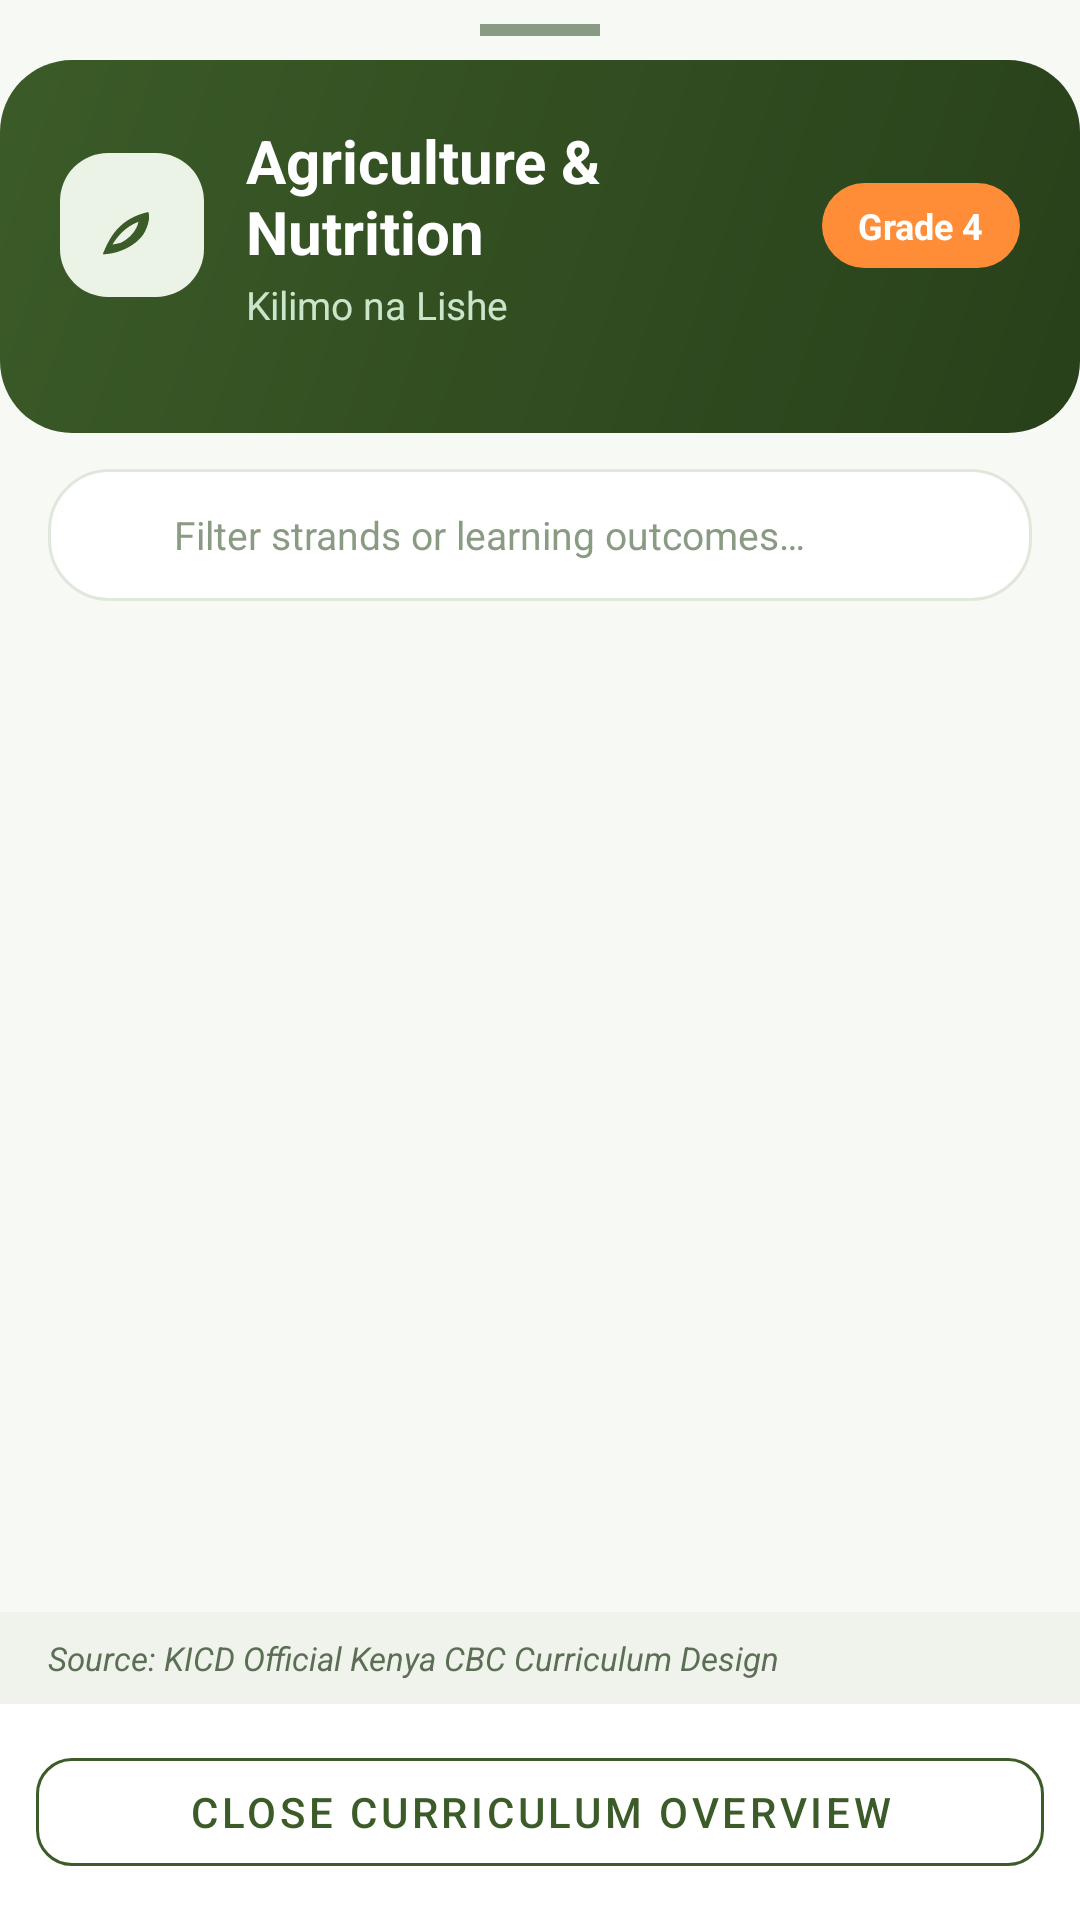

Icons on this 1080×1920 Android screen, each with the point to tap as (x,y):
Subject icon: (126,233)
